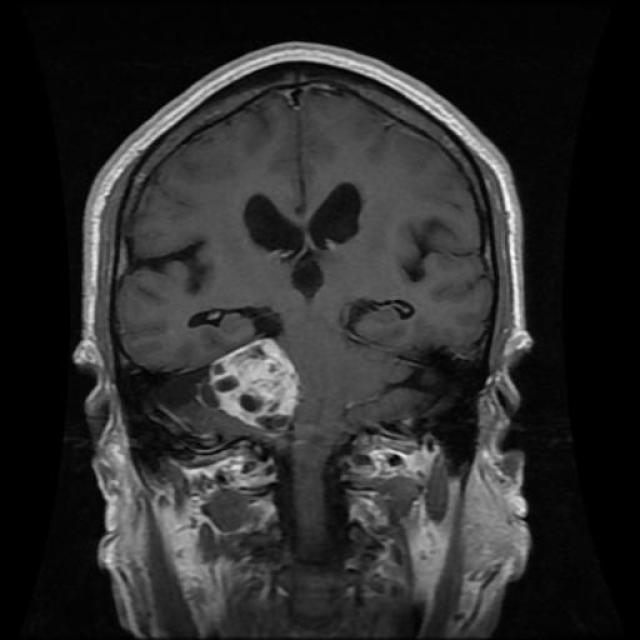meningioma: (209, 339, 300, 430)
